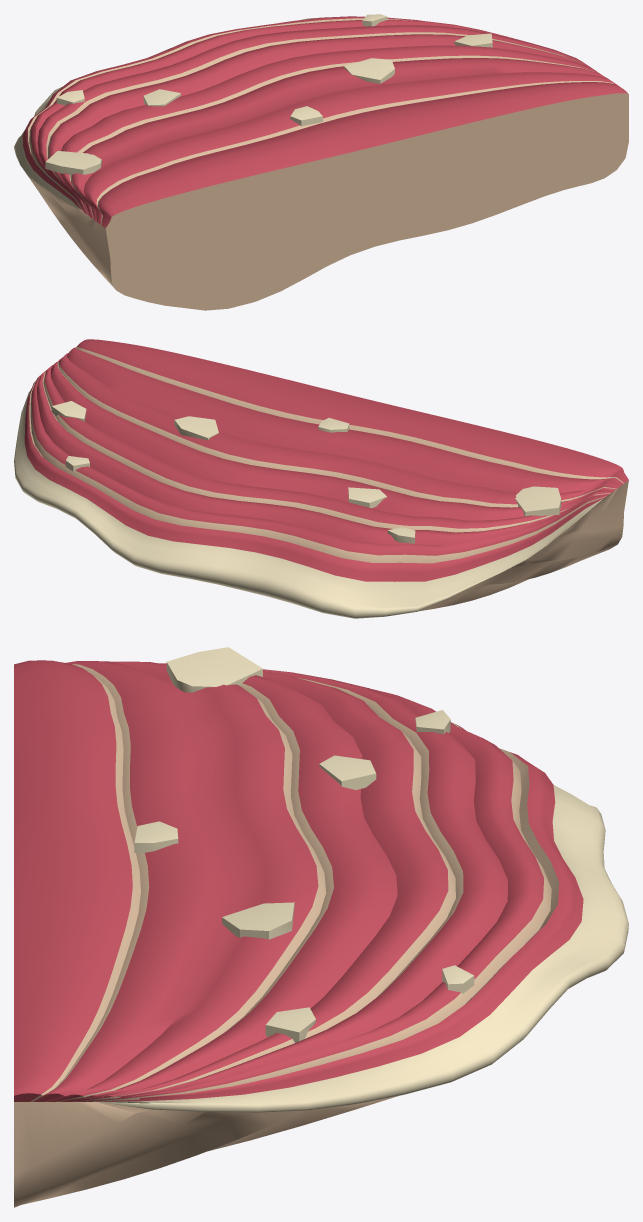
Rendered from mushroom_shelf.fbx.
3 views of the same model, one above another, from view 1: azimuth 30°, elevation 25°; view 2: azimuth 150°, elevation 25°; view 3: azimuth 270°, elevation 25° (orthographic). The views are drawn at different scales.
Parts seen in each view (by area): view 1: Mushroom shelf; view 2: Mushroom shelf; view 3: Mushroom shelf.
Part boxes in pixels (x1,y1,x2,y2): Mushroom shelf: [14, 14, 628, 310]; Mushroom shelf: [14, 339, 628, 618]; Mushroom shelf: [14, 647, 628, 1207].
Size of what is drawn, in the model's own units: 185 by 46.13 by 112.
